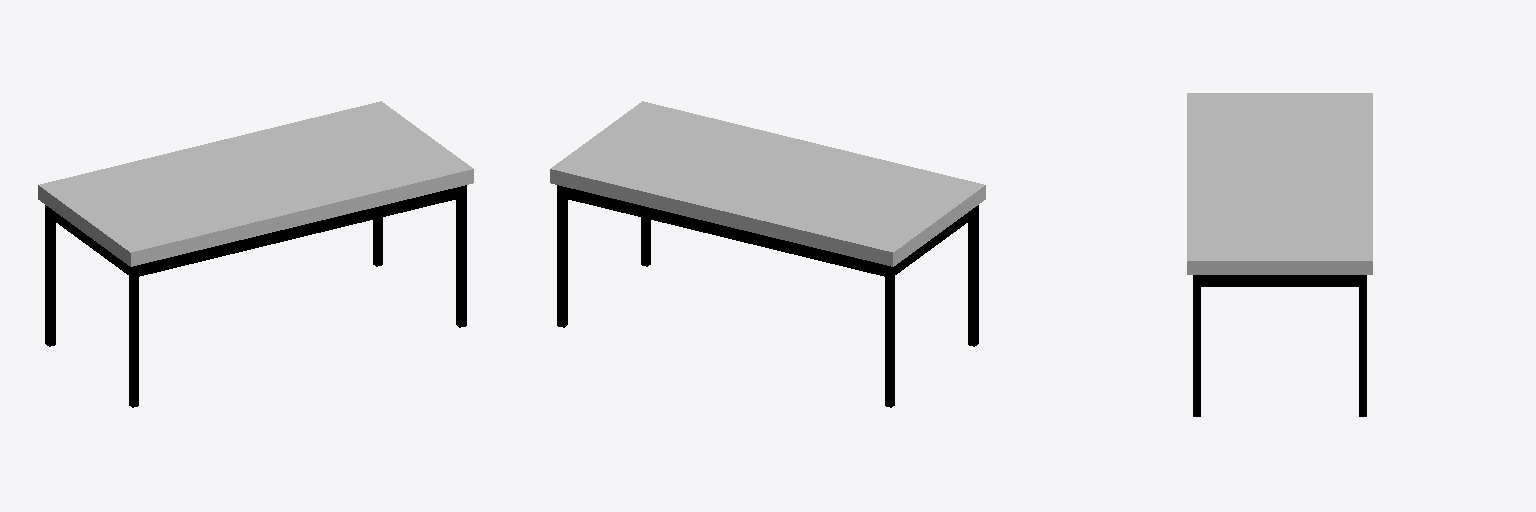
Rendered from table8.obj.
3 views of the same model, side by side, from view 1: azimuth 30°, elevation 25°; view 2: azimuth 150°, elevation 25°; view 3: azimuth 270°, elevation 25° (orthographic).
Visible parts, largest first — view 1: top, rectangle, Foot_1, Foot_4, Foot_2; view 2: top, rectangle, Foot_3, Foot_2, Foot_4; view 3: top, rectangle, Foot_1, Foot_3.
Part boxes in pixels (bbox=[...]): top: bbox=[38, 101, 473, 266]; rectangle: bbox=[45, 186, 466, 277]; Foot_1: bbox=[456, 185, 466, 327]; Foot_4: bbox=[45, 205, 55, 346]; Foot_2: bbox=[129, 266, 138, 407]; top: bbox=[550, 101, 985, 266]; rectangle: bbox=[557, 186, 978, 276]; Foot_3: bbox=[557, 185, 567, 327]; Foot_2: bbox=[968, 206, 978, 346]; Foot_4: bbox=[885, 265, 894, 407]; top: bbox=[1187, 93, 1372, 274]; rectangle: bbox=[1193, 275, 1366, 286]; Foot_1: bbox=[1193, 275, 1200, 416]; Foot_3: bbox=[1359, 277, 1366, 416].
Bounding box in the file's own units: 1.5 × 0.66 × 0.7.